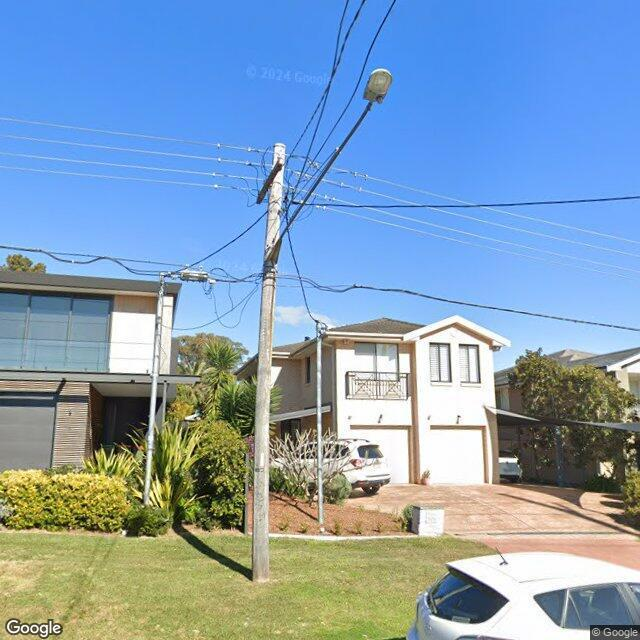crossarm: (255, 157, 283, 206)
steel-pole: (143, 273, 166, 505), (317, 323, 323, 532)
streetlight: (271, 68, 395, 264)
timber-pole: (250, 142, 287, 583)
